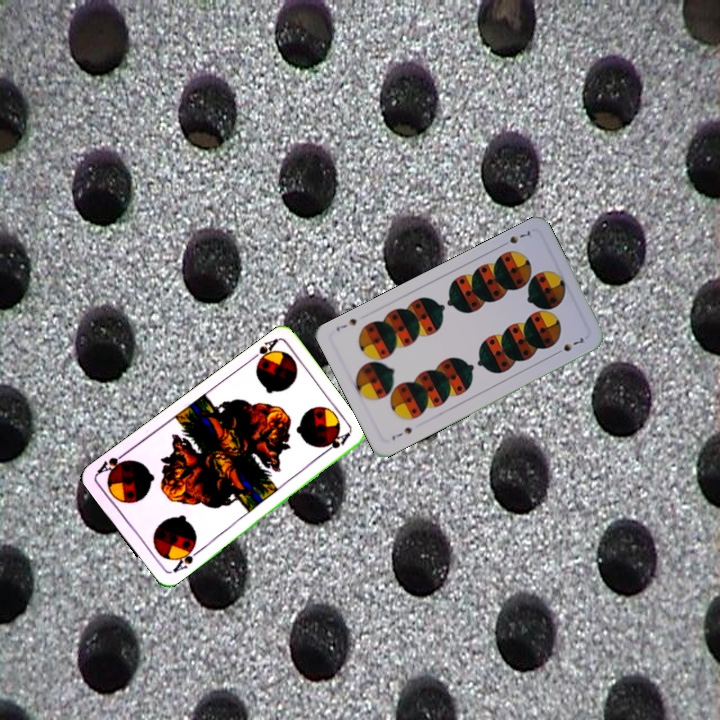S7: (497, 226, 533, 250), (388, 423, 415, 443)
SA: (245, 334, 281, 370), (166, 542, 202, 576)
